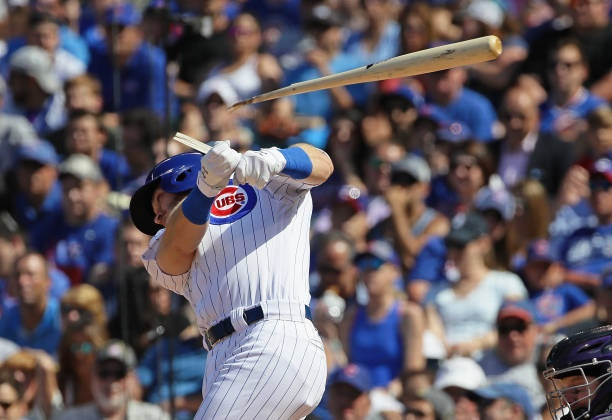bita: (237, 30, 500, 106)
